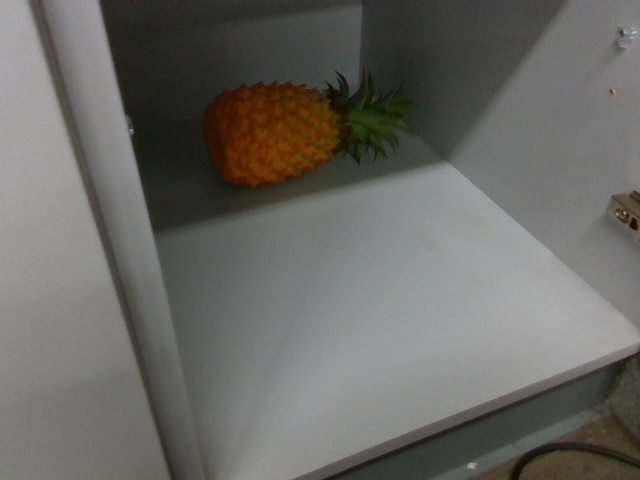pineapple: (203, 71, 405, 185)
